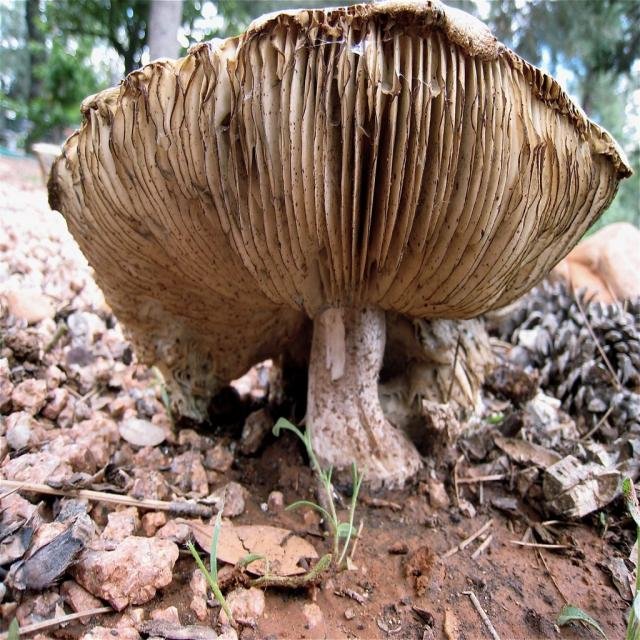Mushroom: (51, 0, 630, 485)
